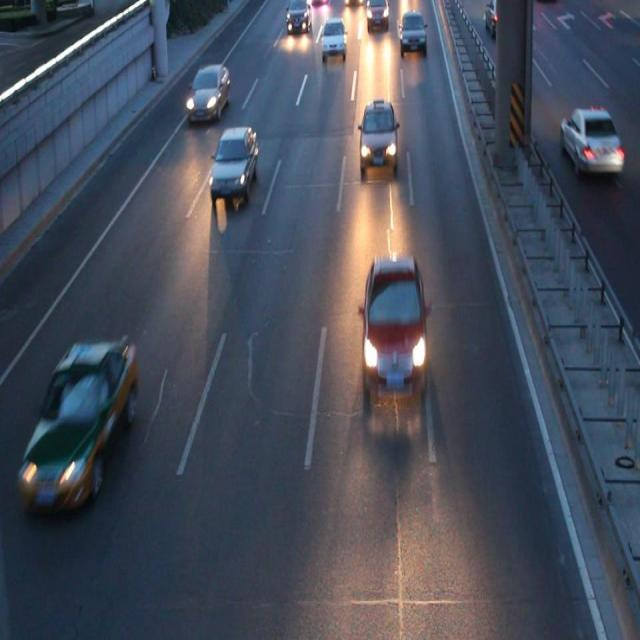car: (19, 342, 136, 505), (362, 256, 426, 395), (559, 111, 620, 172), (209, 130, 257, 194), (359, 105, 396, 170), (186, 66, 230, 117), (399, 12, 425, 52), (484, 2, 514, 34), (322, 20, 346, 52), (286, 1, 310, 32), (366, 1, 388, 26)
